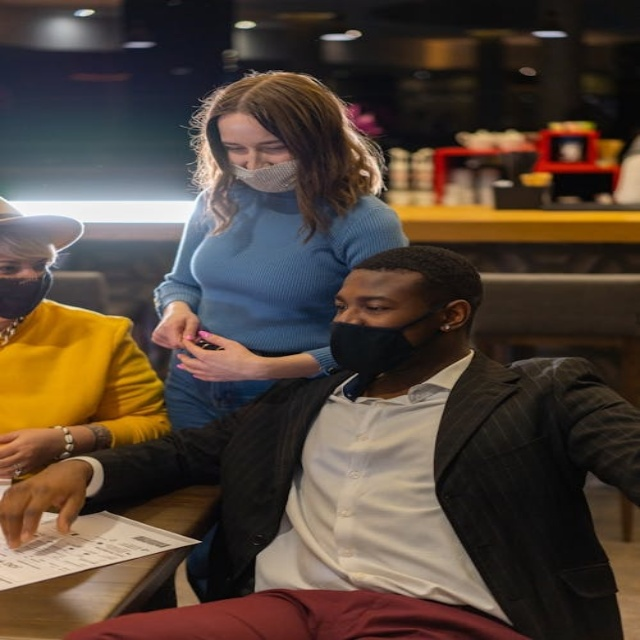Mascara: (328, 308, 446, 395), (0, 266, 55, 320), (230, 160, 303, 193)
Sin_gafas: (332, 290, 404, 317), (216, 135, 285, 153), (0, 257, 54, 274)
Sin_guantes: (0, 457, 98, 549), (167, 329, 271, 383), (0, 428, 68, 476), (147, 300, 204, 351)
